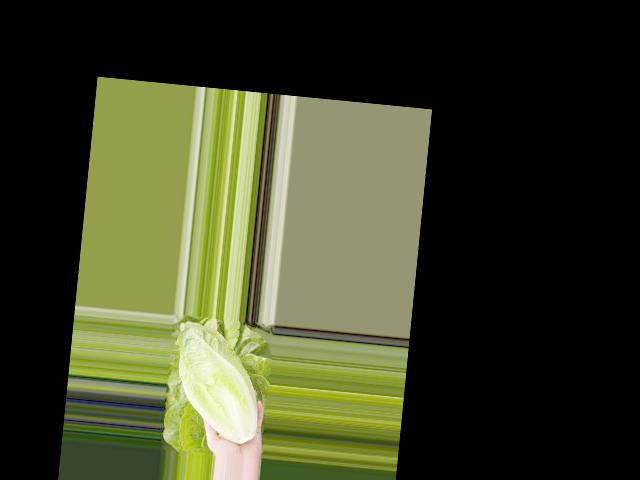lettuce: (168, 322, 281, 433)
